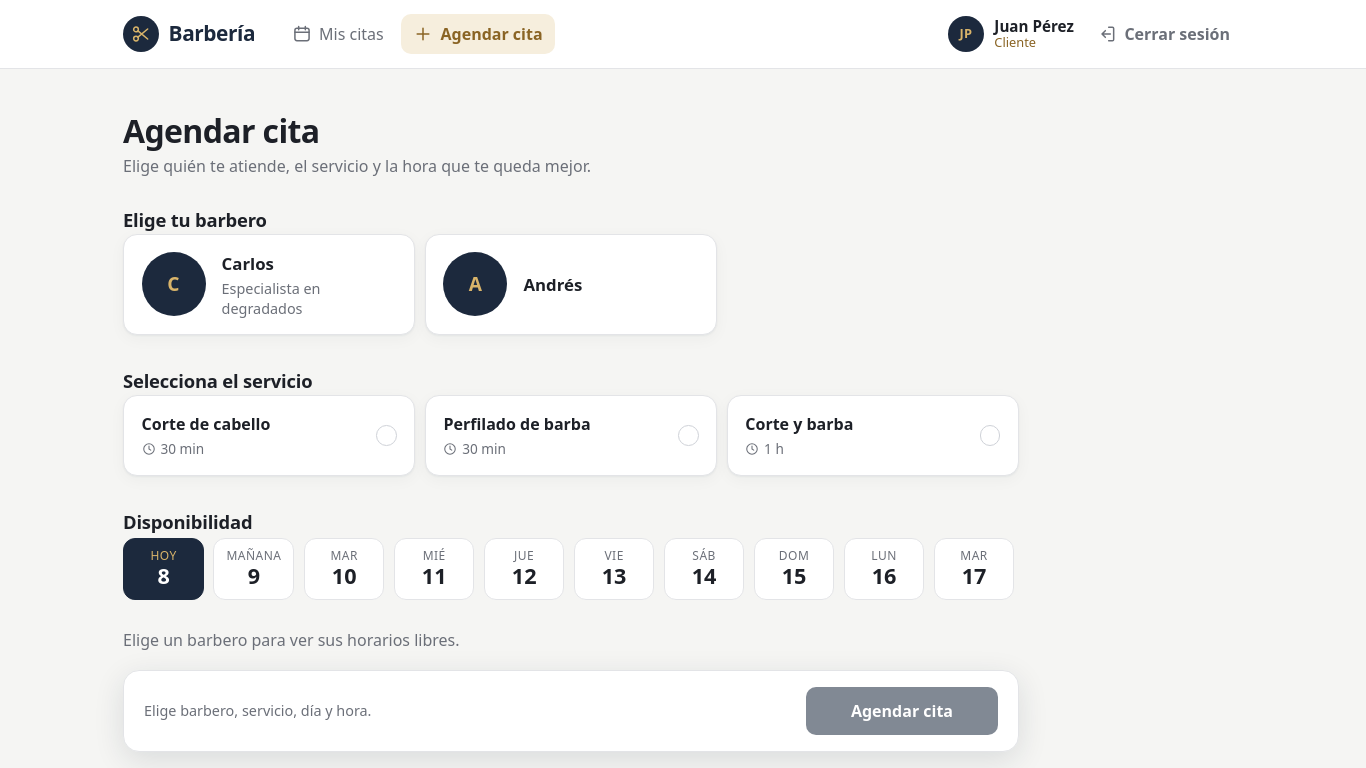
Test: agendar cita (HU-01, HU-02, HU-07) › avisa cuando el barbero no tiene horarios libres ese día
This screenshot has width=1366, height=768.
Click the radio button labelled "Andrés" at (571, 284), box [425,234,717,335]
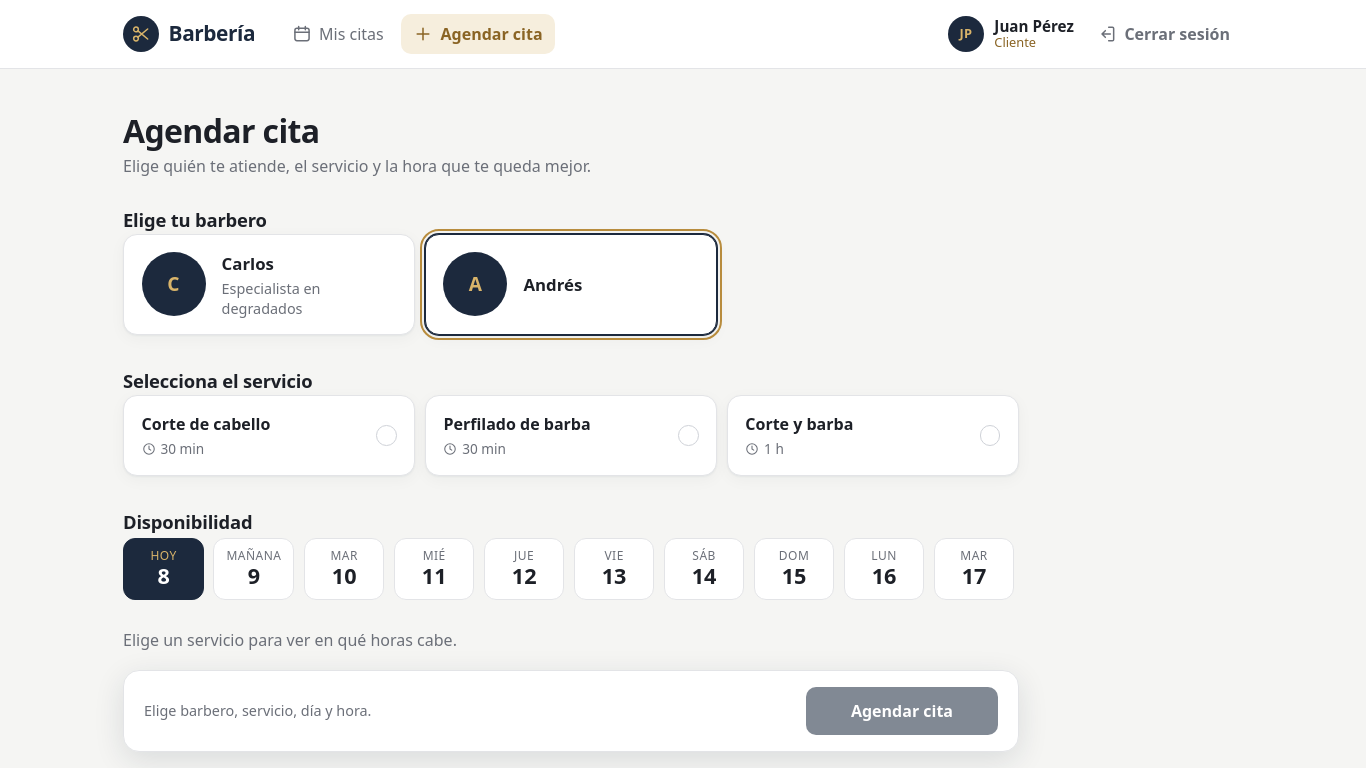
Click the radio button labelled "Perfilado de barba" at (571, 435), box [425,395,717,476]
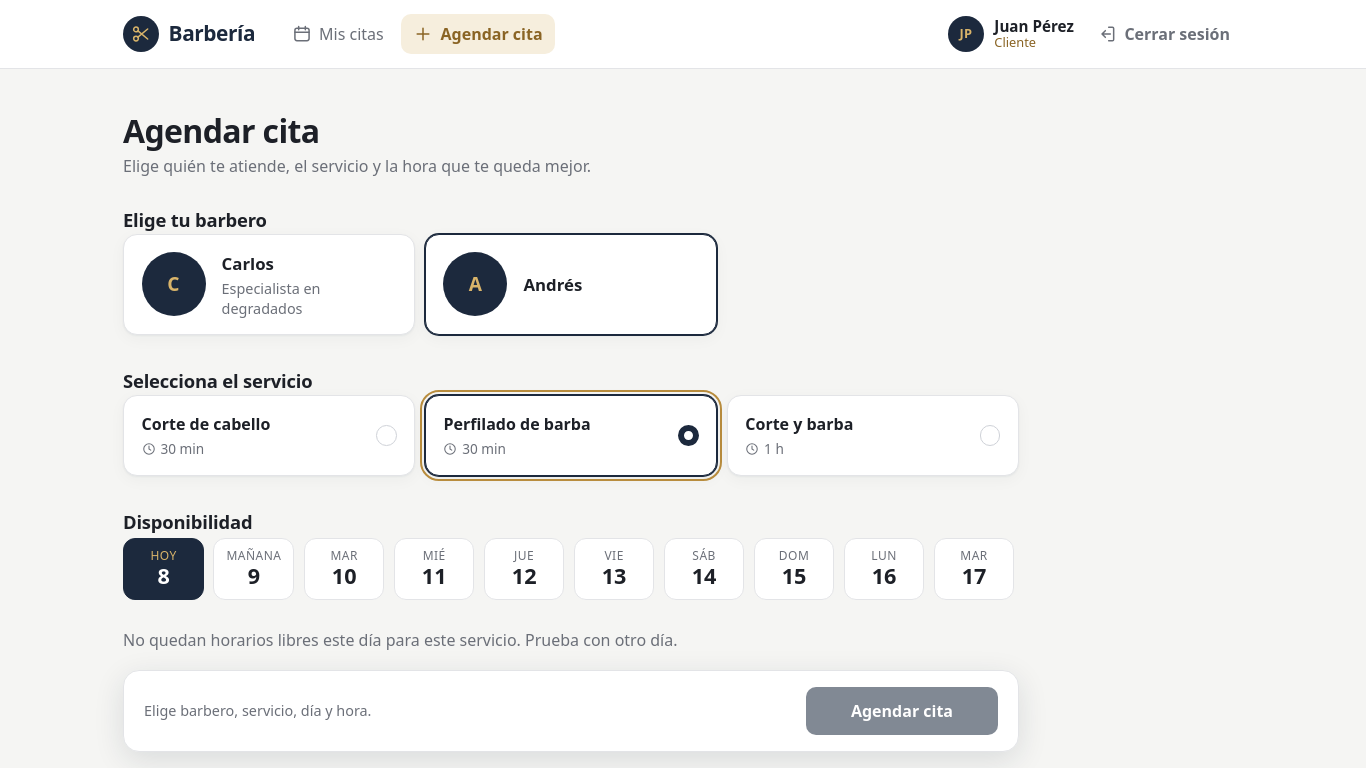
Check: the text "No quedan horarios libres este día para este servicio. Prueba con otro día." is shown, box [123,628,718,652]
